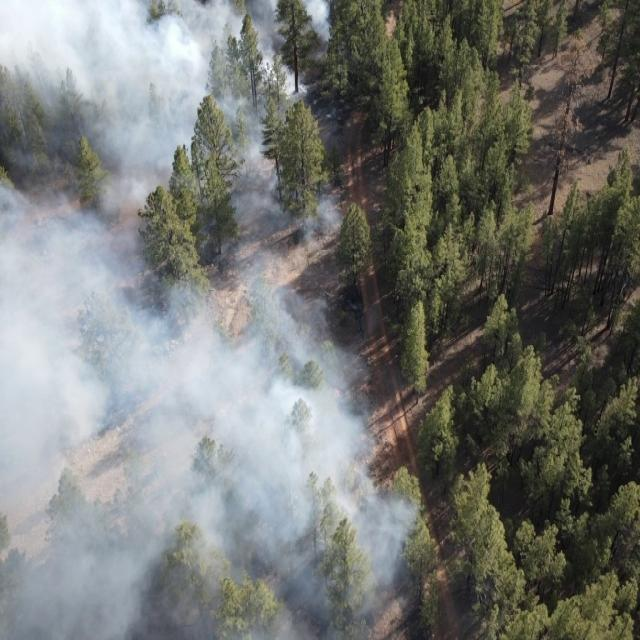fire: (332, 385, 342, 400)
smoke: (0, 1, 372, 640), (369, 445, 426, 640)
